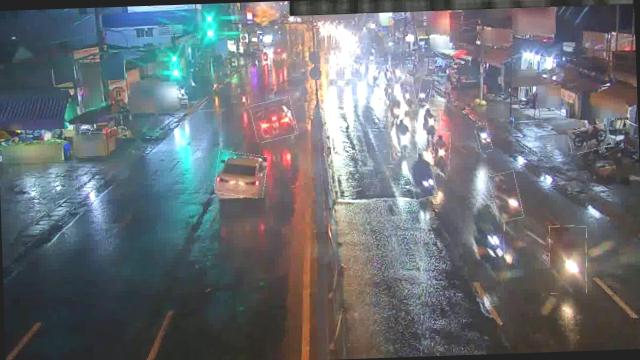Bike: (548, 225, 588, 294), (491, 172, 522, 221), (478, 204, 504, 260), (408, 152, 437, 200), (389, 120, 418, 162), (567, 125, 610, 152), (434, 132, 451, 173), (400, 77, 416, 112), (424, 108, 441, 138), (476, 124, 491, 153), (418, 78, 432, 104), (389, 95, 404, 118), (382, 80, 396, 100), (382, 65, 394, 84), (392, 62, 404, 80), (238, 88, 248, 109), (372, 66, 382, 84)
Car: (214, 151, 268, 199), (252, 98, 296, 142)
